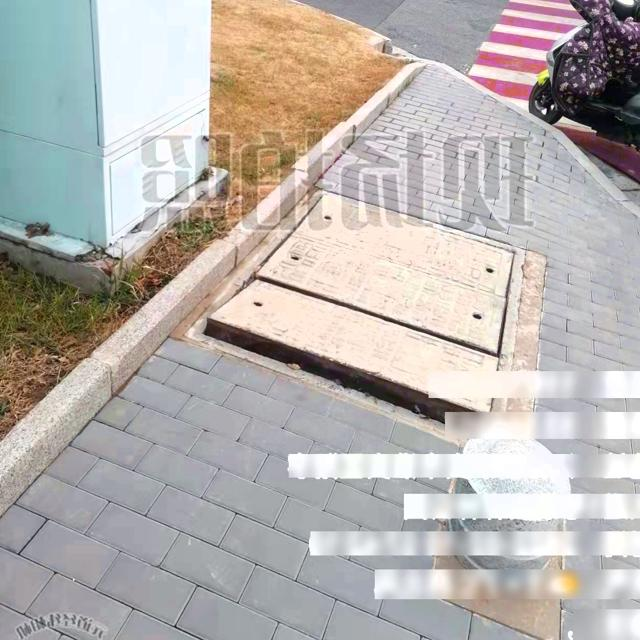uncovered: (196, 192, 526, 429)
